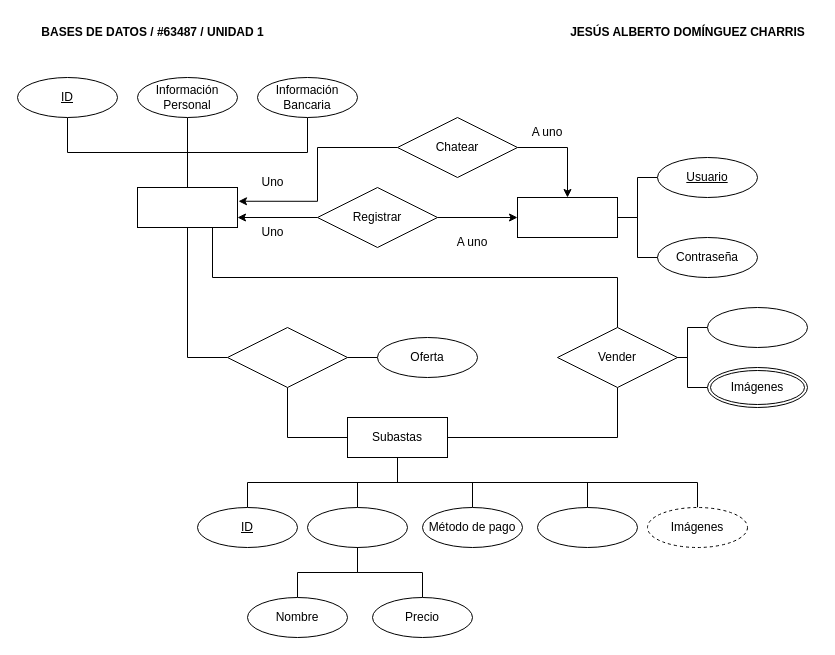
The diagram is 835 pixels wide and 655 high, and some of its shapes have lost their labels. The shapes that lost their labels are listed below. From the top down, each one's box as (x1, y1, x2, y2) in pixels, then its label:
(136, 186, 238, 228): Clientes
(516, 196, 618, 238): Login
(706, 306, 808, 348): Duración
(226, 326, 348, 388): Comprar
(306, 506, 408, 548): Información producto
(536, 506, 638, 548): Método de envío
